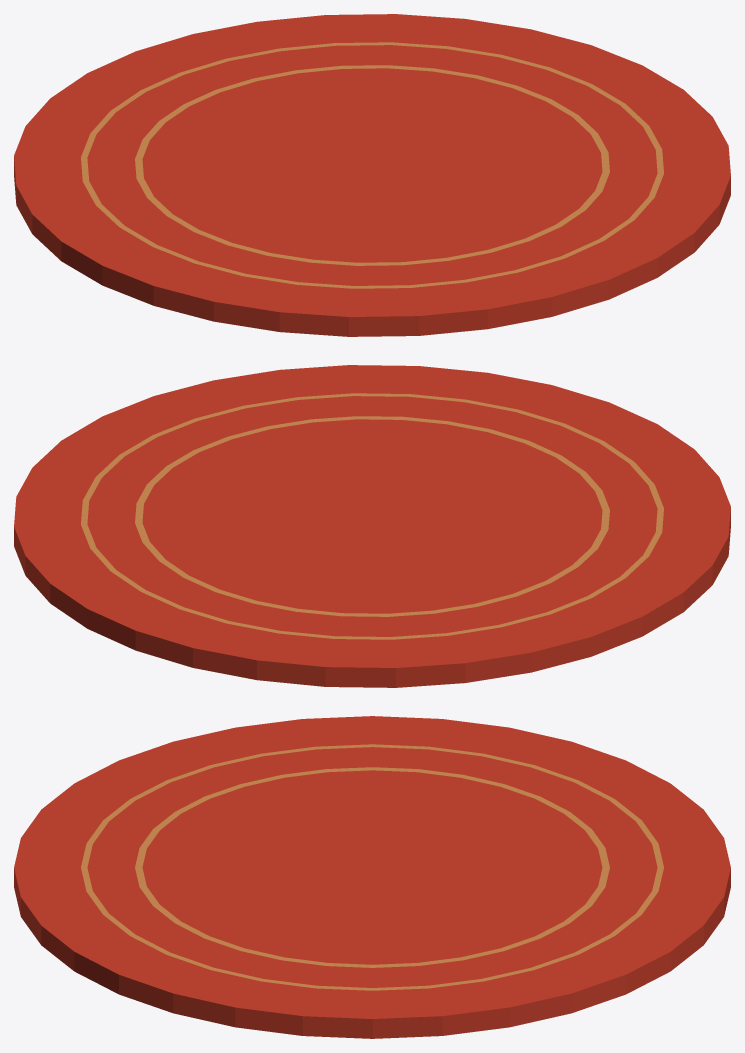
3 views of the same model, one above another, from view 1: azimuth 30°, elevation 25°; view 2: azimuth 150°, elevation 25°; view 3: azimuth 270°, elevation 25° (orthographic).
Parts seen in each view (by area): view 1: Carpet; view 2: Carpet; view 3: Carpet.
Boxes of the visible parts, x1=… form: Carpet: x1=14, y1=14, x2=730, y2=336; Carpet: x1=14, y1=365, x2=730, y2=687; Carpet: x1=14, y1=716, x2=730, y2=1038.
Bounding box in the file's own units: 177 × 5.41 × 177.
